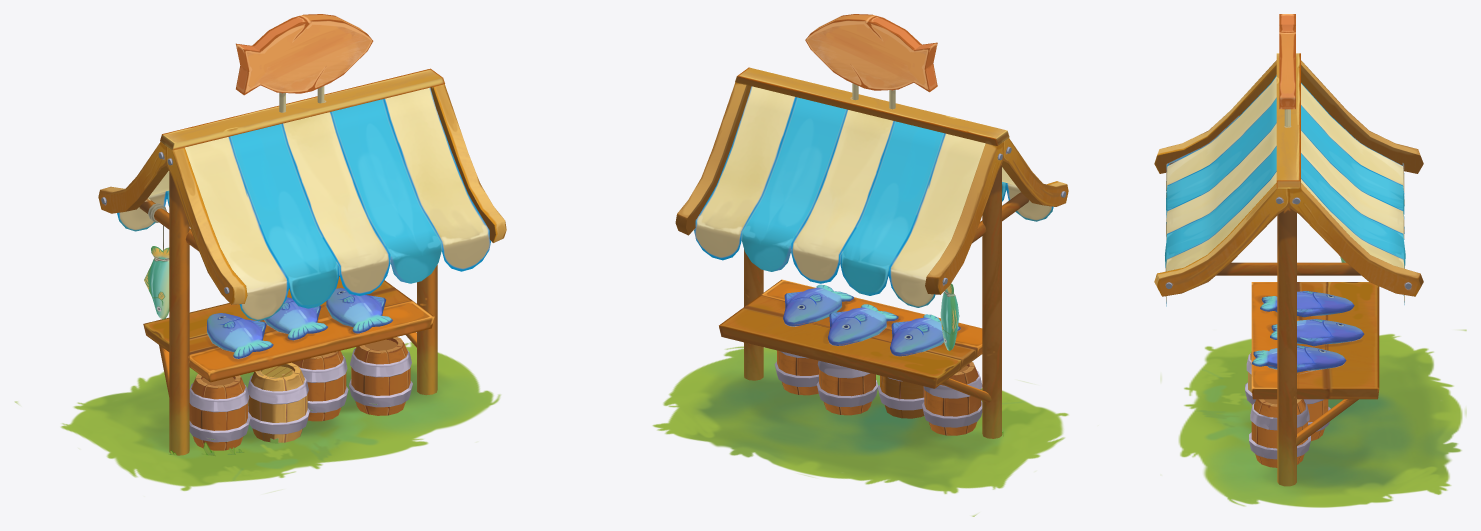
File: market_stall.glb
The picture shows the model from 3 angles, left to right: view 1: azimuth 30°, elevation 25°; view 2: azimuth 150°, elevation 25°; view 3: azimuth 270°, elevation 25°; orthographic projection. The views are drawn at different scales.
Visible parts, largest first — view 1: tarp_low, plane_low, table_low, arch_low, woodfish_low, bigsupports_low, topwood_low, barrel2_low, barrel4_low, barrel1_low, barrel3_low, fish1_low (+3 smaller); view 2: tarp_low, plane_low, table_low, arch_low, woodfish_low, bigsupports_low, topwood_low, barrel1_low, barrel3_low, fish2_low, fish3_low, fish1_low (+3 smaller); view 3: plane_low, tarp_low, arch_low, table_low, bigsupports_low, topwood_low, barrel4_low, woodfish_low, sidesupports_low, fish2_low, fish1_low, fish3_low (+2 smaller).
Boxes of the visible parts, x1=… form: tarp_low: x1=117, y1=87, x2=490, y2=321; plane_low: x1=14, y1=342, x2=500, y2=492; table_low: x1=143, y1=276, x2=434, y2=382; arch_low: x1=98, y1=84, x2=506, y2=304; woodfish_low: x1=236, y1=14, x2=373, y2=95; bigsupports_low: x1=169, y1=172, x2=437, y2=455; topwood_low: x1=160, y1=68, x2=444, y2=150; barrel2_low: x1=247, y1=362, x2=309, y2=442; barrel4_low: x1=349, y1=337, x2=412, y2=415; barrel1_low: x1=189, y1=374, x2=250, y2=450; barrel3_low: x1=292, y1=350, x2=348, y2=421; fish1_low: x1=207, y1=313, x2=273, y2=358; tarp_low: x1=694, y1=86, x2=1053, y2=307; plane_low: x1=652, y1=346, x2=1068, y2=516; table_low: x1=719, y1=279, x2=982, y2=388; arch_low: x1=675, y1=82, x2=1068, y2=294; woodfish_low: x1=805, y1=14, x2=937, y2=92; bigsupports_low: x1=744, y1=164, x2=1001, y2=438; topwood_low: x1=735, y1=67, x2=1009, y2=145; barrel1_low: x1=922, y1=362, x2=982, y2=435; barrel3_low: x1=816, y1=360, x2=878, y2=415; fish2_low: x1=828, y1=304, x2=898, y2=345; fish3_low: x1=783, y1=284, x2=853, y2=326; fish1_low: x1=890, y1=314, x2=960, y2=356; plane_low: x1=1160, y1=329, x2=1466, y2=507; tarp_low: x1=1165, y1=75, x2=1405, y2=306; arch_low: x1=1154, y1=60, x2=1423, y2=296; table_low: x1=1251, y1=282, x2=1379, y2=399; bigsupports_low: x1=1277, y1=207, x2=1296, y2=486; topwood_low: x1=1276, y1=53, x2=1300, y2=188; barrel4_low: x1=1249, y1=399, x2=1310, y2=467; woodfish_low: x1=1279, y1=14, x2=1295, y2=109; sidesupports_low: x1=1216, y1=262, x2=1361, y2=275; fish2_low: x1=1270, y1=319, x2=1364, y2=346; fish1_low: x1=1260, y1=291, x2=1354, y2=317; fish3_low: x1=1252, y1=345, x2=1346, y2=372.
Size of the model in its own units: 1.34 by 1.34 by 0.9472.
Materials: 1 (1 with a texture image).
